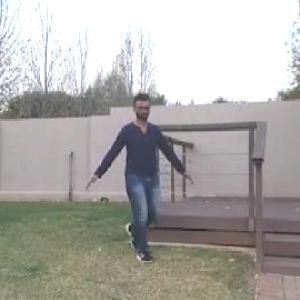land: (84, 89, 194, 280)
